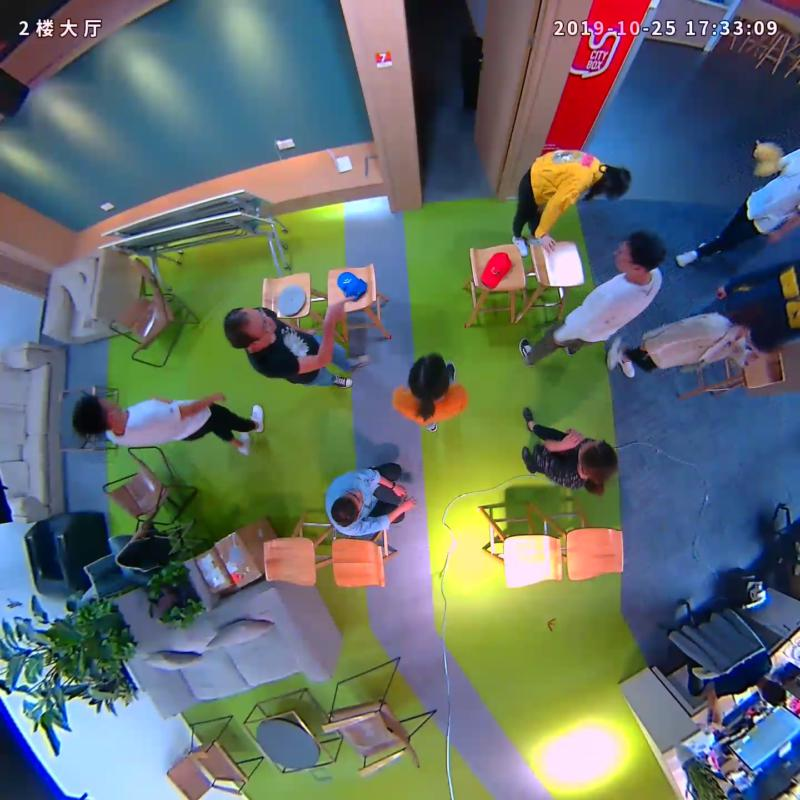head: (396, 351, 462, 411), (215, 301, 280, 359), (567, 431, 626, 492), (609, 227, 669, 284), (68, 393, 132, 446), (592, 159, 643, 205), (320, 485, 362, 533)
